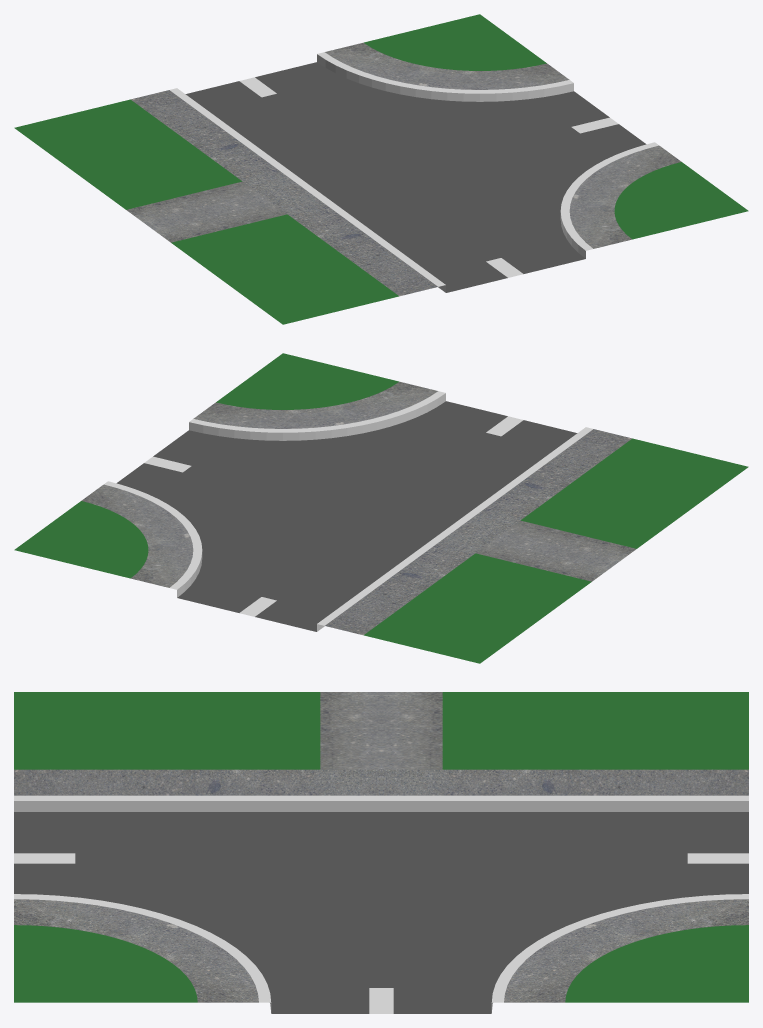
The model's file is T-Crossing.fbx.
3 views of the same model, one above another, from view 1: azimuth 30°, elevation 25°; view 2: azimuth 150°, elevation 25°; view 3: azimuth 270°, elevation 25° (orthographic). The views are drawn at different scales.
Parts seen in each view (by area): view 1: T-Crossing; view 2: T-Crossing; view 3: T-Crossing.
Boxes of the visible parts, box(x1,y1,x2,y2) form: T-Crossing: box(14, 14, 748, 324); T-Crossing: box(14, 353, 748, 663); T-Crossing: box(14, 692, 748, 1013).
Bounding box in the file's own units: 6000 × 100 × 6000.
